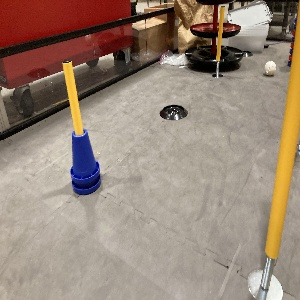Blue_2: (70, 128, 101, 195)
